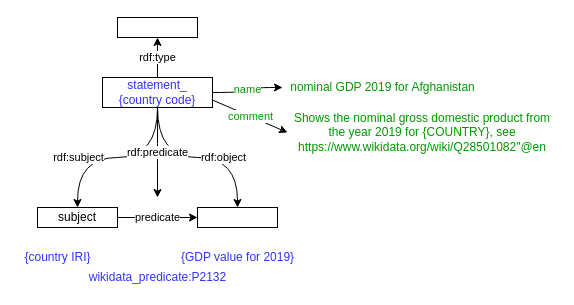
Some shapes in this 574 by 305 pixel diagram are drawn without their labels. The box of each missing label's shape, as (x1, y1, x2, y2) in pixels:
object: (196, 206, 278, 228)
rdf:statement: (116, 16, 198, 38)
